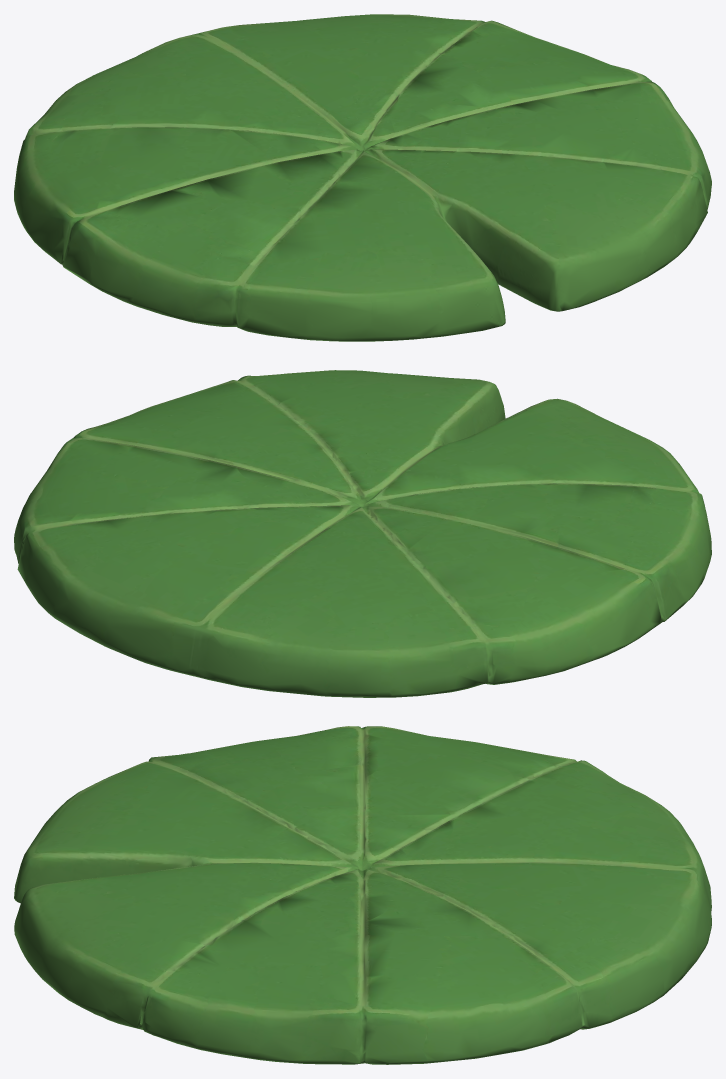
File: froggy-lily-pad.glb
3 renders of one model, top to bottom at view 1: azimuth 30°, elevation 25°; view 2: azimuth 150°, elevation 25°; view 3: azimuth 270°, elevation 25°, orthographic. The views are drawn at different scales.
Bounding box in the file's own units: 1.9 × 0.1885 × 1.86.
Materials: 1 (1 with a texture image).
